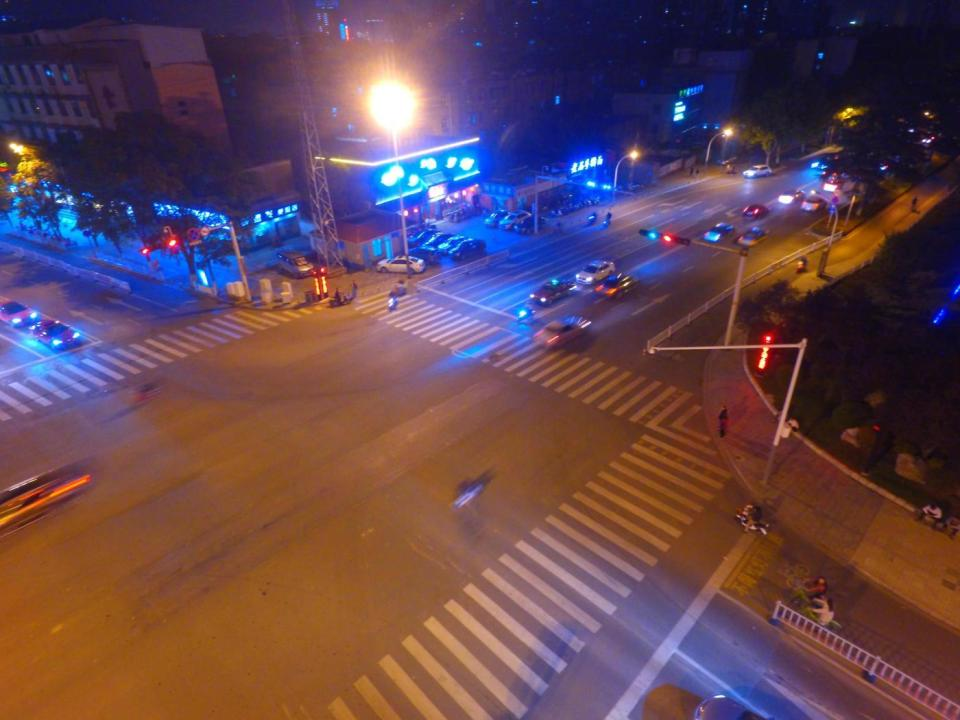car: (0, 465, 95, 542), (533, 318, 590, 350), (31, 318, 81, 350), (528, 278, 574, 306), (594, 272, 640, 298), (0, 299, 36, 327), (576, 260, 616, 285), (406, 226, 442, 250), (448, 239, 484, 262), (377, 256, 423, 274), (406, 245, 443, 264), (737, 226, 770, 246), (420, 232, 452, 252), (702, 222, 732, 243), (438, 235, 470, 254), (498, 211, 531, 229), (740, 202, 772, 220), (484, 209, 514, 228), (513, 218, 548, 234), (743, 164, 772, 180), (778, 188, 806, 204), (800, 195, 826, 212), (717, 155, 739, 165)
van: (274, 250, 314, 276)
